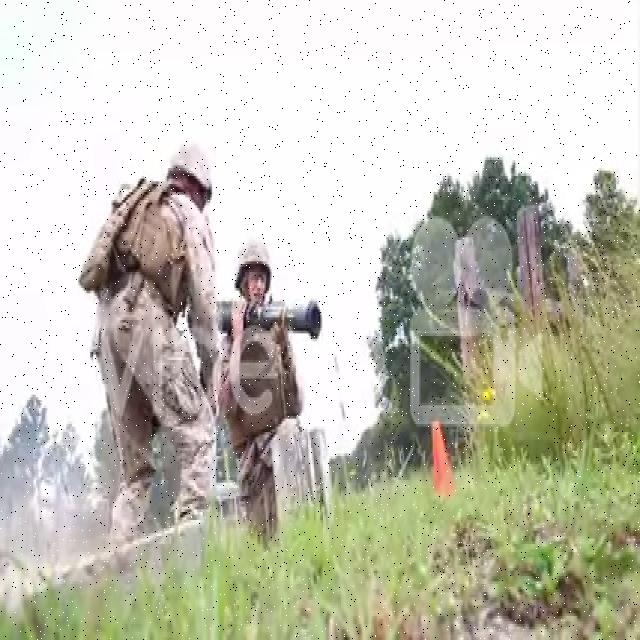bazooka: (220, 299, 328, 342)
